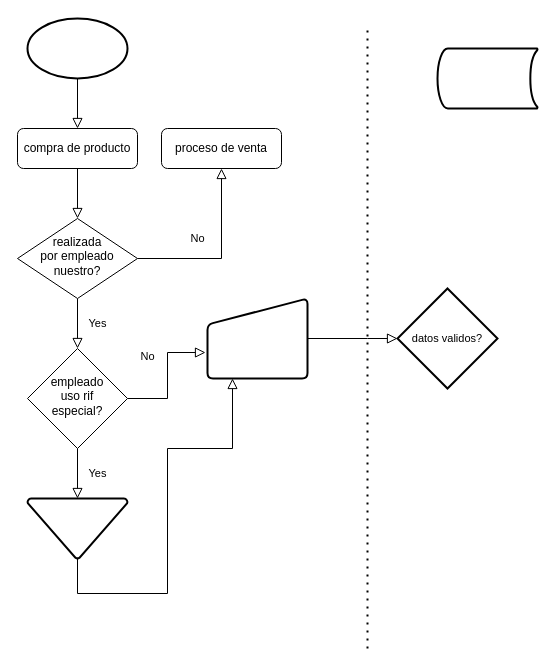
Image size: 556x667. Some labels were removed from this diagram. The centre of each missing label's shape, as x and y in pixels:
ingresa datos minimos de la compra: pixel 257 338
marcar recibo especial: pixel 77 528
